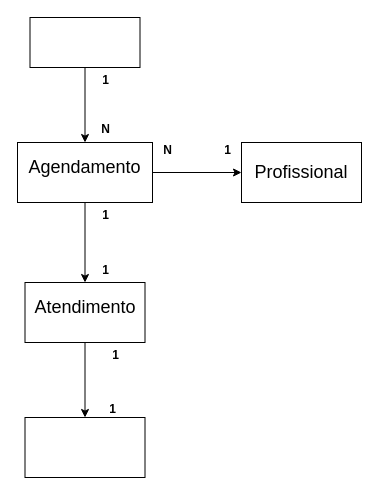
The diagram is 379 pixels wide and 495 high, and some of its shapes have lost their labels. Here are the shapes that lost their labels. From the top down, the centre of each, then its label:
(x=84, y=42): Cliente
(x=84, y=447): Pagamento
